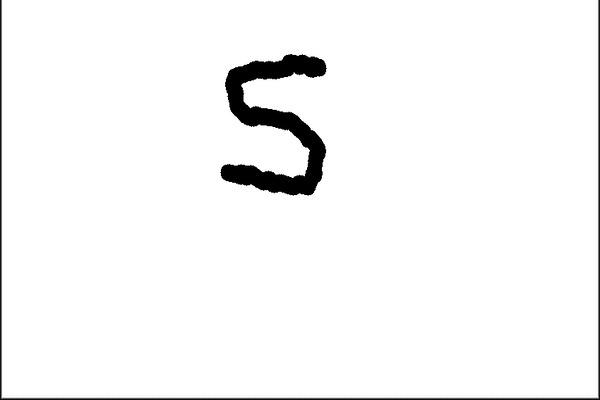S: (212, 48, 334, 200)
